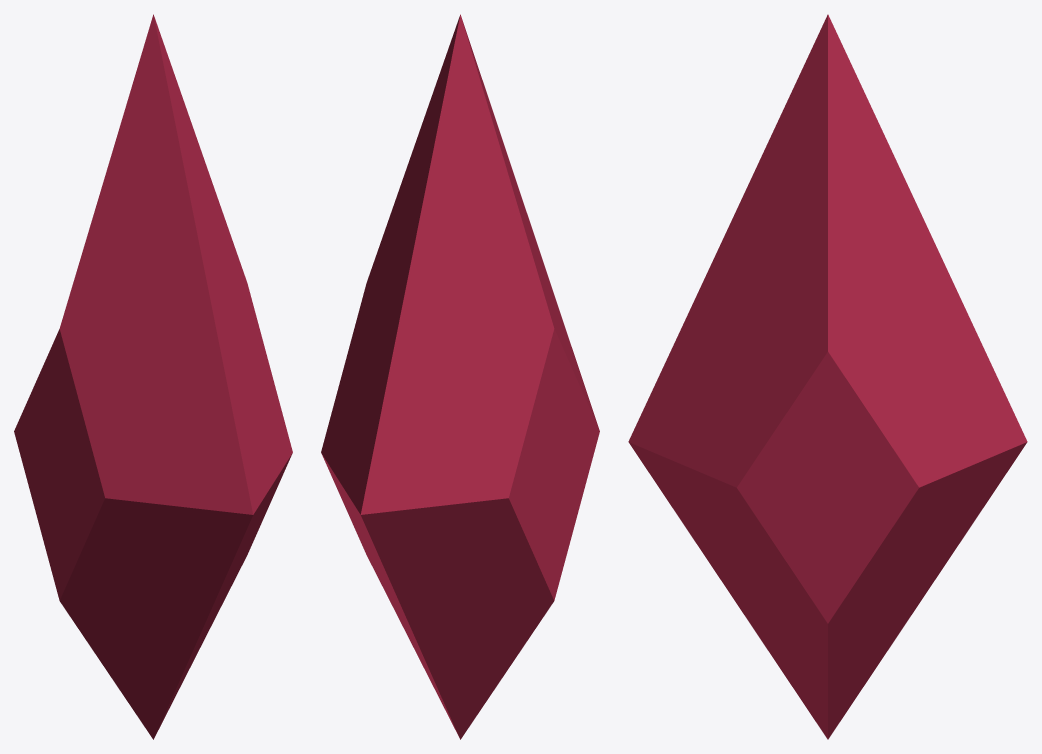
Rendered from Marker.fbx.
3 renders of one model, left to right at view 1: azimuth 30°, elevation 25°; view 2: azimuth 150°, elevation 25°; view 3: azimuth 270°, elevation 25°, orthographic.
Parts seen in each view (by area): view 1: Sphere; view 2: Sphere; view 3: Sphere.
Boxes of the visible parts, x1,y1,x2,y2 form: Sphere: (14,14,292,739); Sphere: (321,14,599,739); Sphere: (628,14,1027,739).
Size of the model in its own units: 93.26 by 345 by 172.
